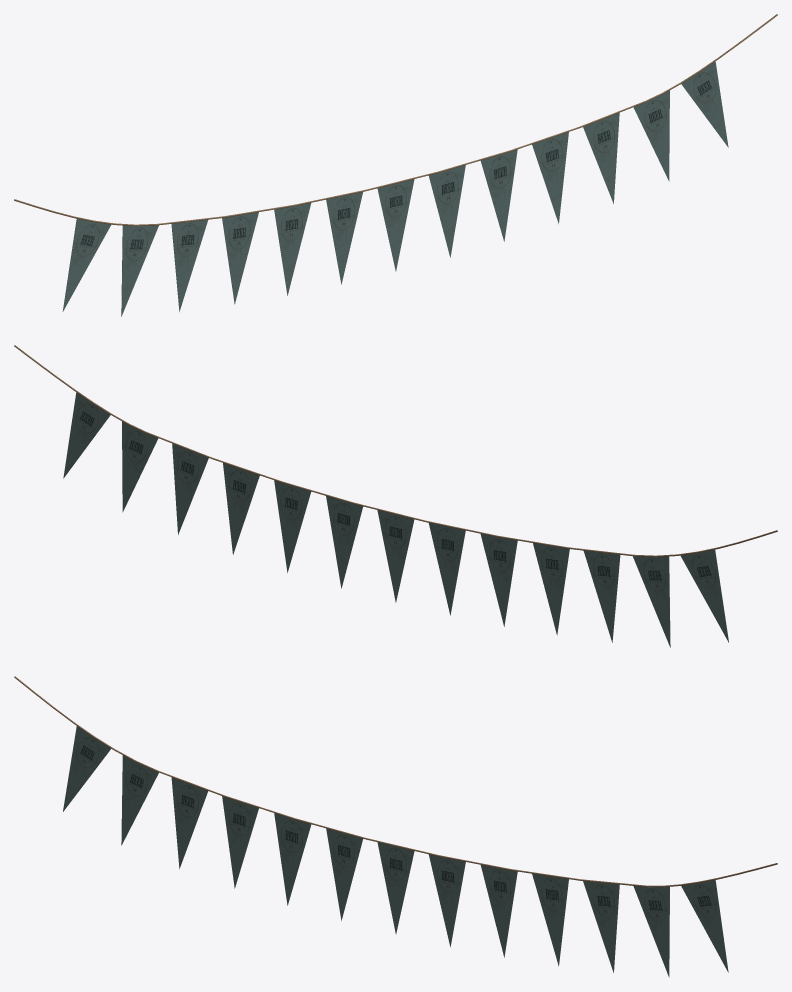
File: Prop_Flag_Line_x5.fbx
3 renders of one model, top to bottom at view 1: azimuth 30°, elevation 25°; view 2: azimuth 150°, elevation 25°; view 3: azimuth 330°, elevation 25°, orthographic.
Visible parts, largest first — view 1: Prop_Flag_Line_x5; view 2: Prop_Flag_Line_x5; view 3: Prop_Flag_Line_x5.
Boxes of the visible parts, x1,y1,x2,y2 form: Prop_Flag_Line_x5: (14,14,777,316); Prop_Flag_Line_x5: (14,345,777,647); Prop_Flag_Line_x5: (14,676,777,977).
Size of the model in its own units: 267 by 55.32 by 0.459.
